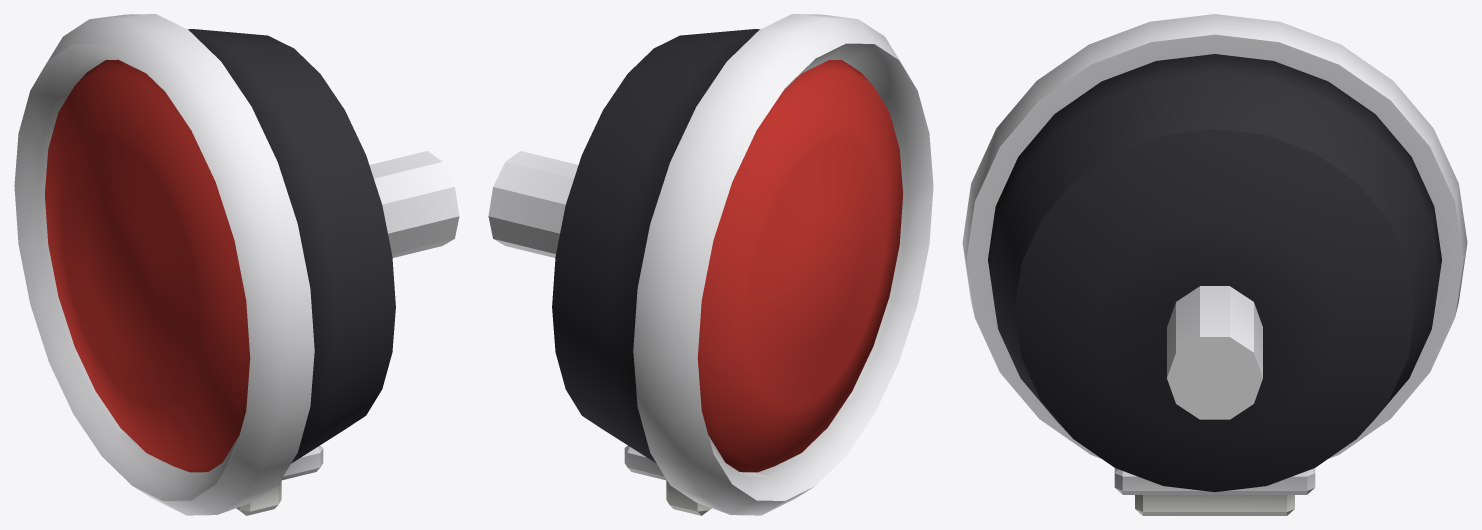
File: tl_round.glb
3 views of the same model, side by side, from view 1: azimuth 30°, elevation 25°; view 2: azimuth 150°, elevation 25°; view 3: azimuth 270°, elevation 25° (orthographic).
Visible parts, largest first — view 1: PART; view 2: PART; view 3: PART.
Boxes of the visible parts, x1,y1,x2,y2 form: PART: [14, 14, 459, 515]; PART: [488, 14, 933, 515]; PART: [962, 14, 1467, 515].
Size of the model in its own units: 0.09 by 0.127 by 0.126.
